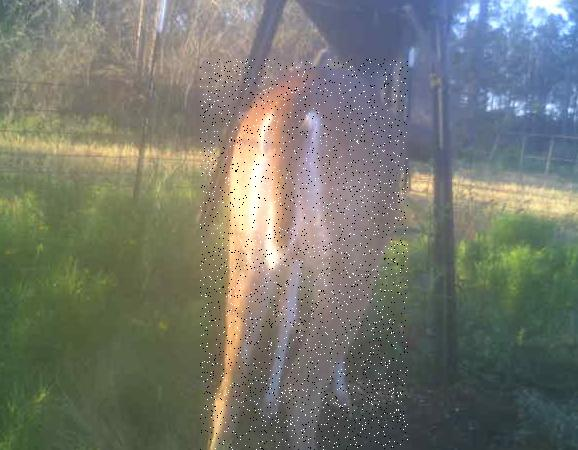Deer: (200, 59, 408, 450)
